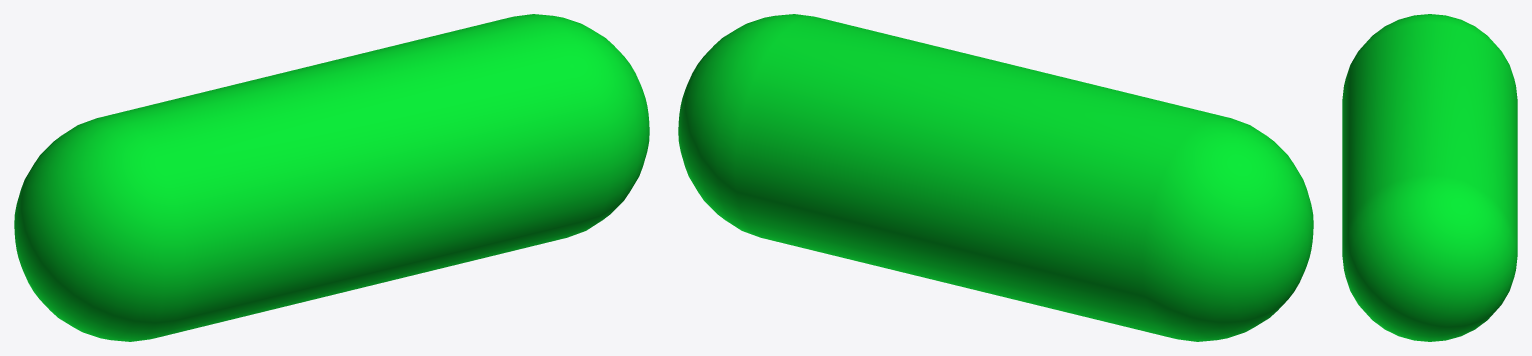
Rendered from tank.fbx.
3 renders of one model, left to right at view 1: azimuth 30°, elevation 25°; view 2: azimuth 150°, elevation 25°; view 3: azimuth 270°, elevation 25°, orthographic. The views are drawn at different scales.
Parts seen in each view (by area): view 1: Sphere; view 2: Sphere; view 3: Sphere.
Boxes of the visible parts, left/top/right/bottom form: Sphere: left=14, top=14, right=649, bottom=341; Sphere: left=678, top=14, right=1313, bottom=341; Sphere: left=1342, top=14, right=1517, bottom=341.
Size of the model in its own units: 270 by 88.38 by 88.38.
